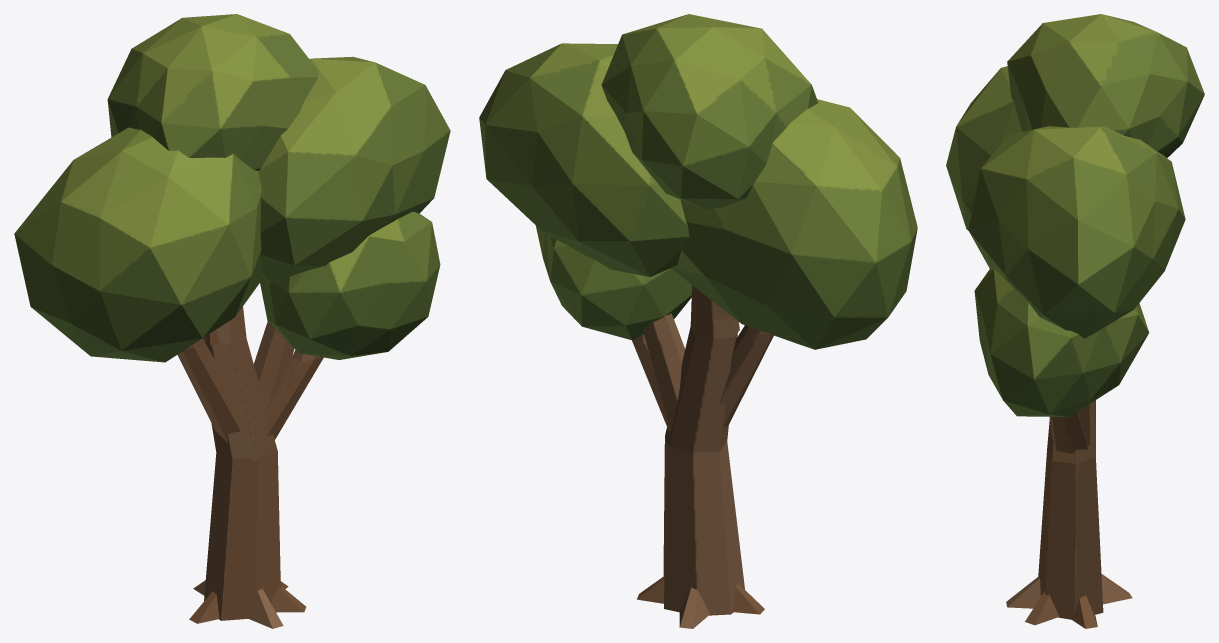
Rendered from tree-oak.glb.
3 renders of one model, left to right at view 1: azimuth 30°, elevation 25°; view 2: azimuth 150°, elevation 25°; view 3: azimuth 270°, elevation 25°, orthographic. The views are drawn at different scales.
Visible parts, largest first — view 1: tree-oak; view 2: tree-oak; view 3: tree-oak.
Boxes of the visible parts, x1,y1,x2,y2 form: tree-oak: (14, 14, 450, 628); tree-oak: (479, 14, 917, 628); tree-oak: (946, 14, 1204, 628).
Bounding box in the file's own units: 5.4 × 7.21 × 2.94.
Materials: 1 (1 with a texture image).
